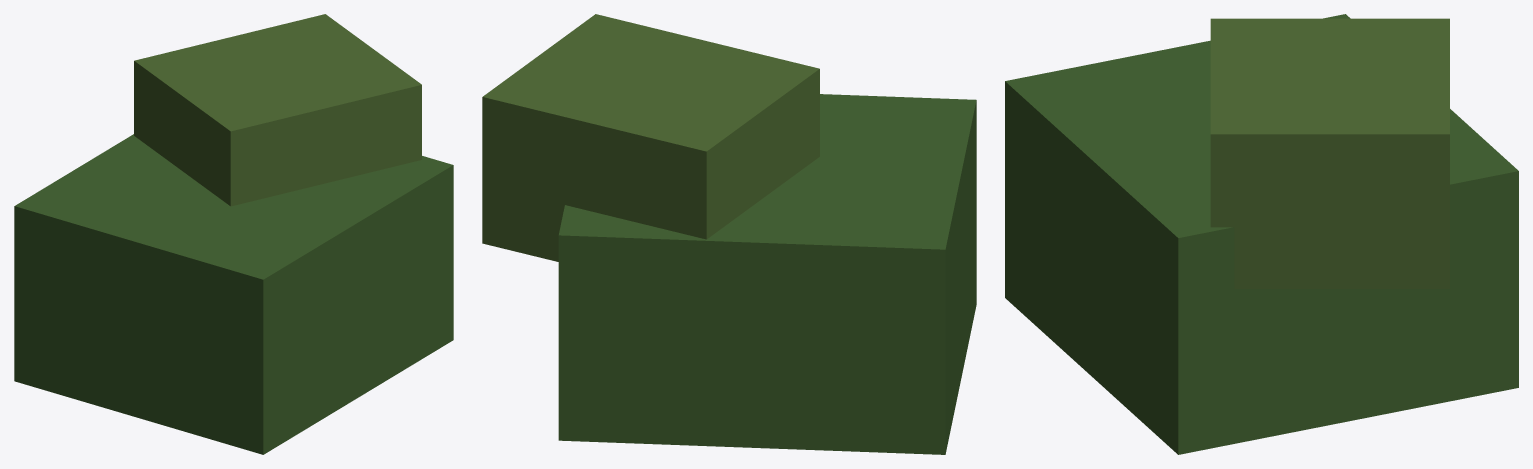
Rendered from bush_a.glb.
The picture shows the model from 3 angles, left to right: view 1: azimuth 30°, elevation 25°; view 2: azimuth 150°, elevation 25°; view 3: azimuth 270°, elevation 25°; orthographic projection. The views are drawn at different scales.
Visible parts, largest first — view 1: Cube, Cube.001; view 2: Cube, Cube.001; view 3: Cube, Cube.001.
Boxes of the visible parts, x1=… form: Cube: x1=14, y1=134, x2=453, y2=454; Cube.001: x1=134, y1=14, x2=421, y2=206; Cube: x1=558, y1=94, x2=976, y2=454; Cube.001: x1=482, y1=14, x2=819, y2=261; Cube: x1=1005, y1=14, x2=1518, y2=454; Cube.001: x1=1210, y1=18, x2=1449, y2=288.
Size of the model in its own units: 15.52 by 10 by 15.04.
